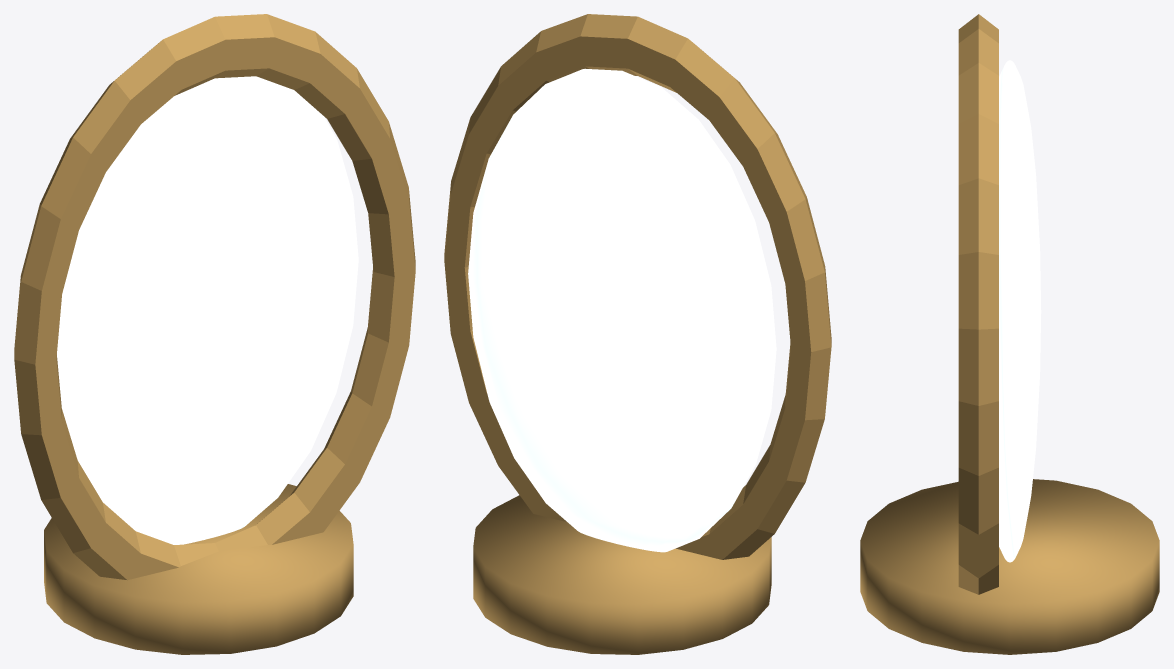
The model's file is relic-echoMirror.glb.
The picture shows the model from 3 angles, left to right: view 1: azimuth 30°, elevation 25°; view 2: azimuth 150°, elevation 25°; view 3: azimuth 270°, elevation 25°; orthographic projection. The views are drawn at different scales.
Visible parts, largest first — view 1: relic-echoMirror / Relic | mother of pearl, relic-echoMirror / Brass | machined champagne; view 2: relic-echoMirror / Relic | mother of pearl, relic-echoMirror / Brass | machined champagne; view 3: relic-echoMirror / Brass | machined champagne, relic-echoMirror / Relic | mother of pearl.
Part boxes in pixels (left/top/right/bottom): relic-echoMirror / Relic | mother of pearl: left=57, top=76, right=358, bottom=544; relic-echoMirror / Brass | machined champagne: left=14, top=14, right=415, bottom=654; relic-echoMirror / Relic | mother of pearl: left=468, top=68, right=776, bottom=552; relic-echoMirror / Brass | machined champagne: left=444, top=14, right=831, bottom=654; relic-echoMirror / Brass | machined champagne: left=860, top=14, right=1159, bottom=654; relic-echoMirror / Relic | mother of pearl: left=999, top=60, right=1041, bottom=562.
Size of the model in its own units: 1.43 by 2 by 0.96.
